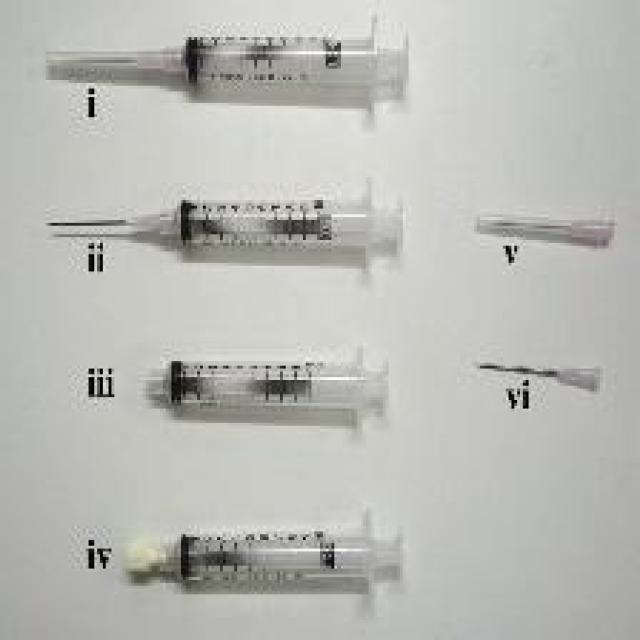syringe: (49, 28, 423, 150), (48, 176, 427, 294), (127, 520, 472, 619), (112, 359, 408, 457), (454, 186, 633, 270), (488, 332, 640, 428)
